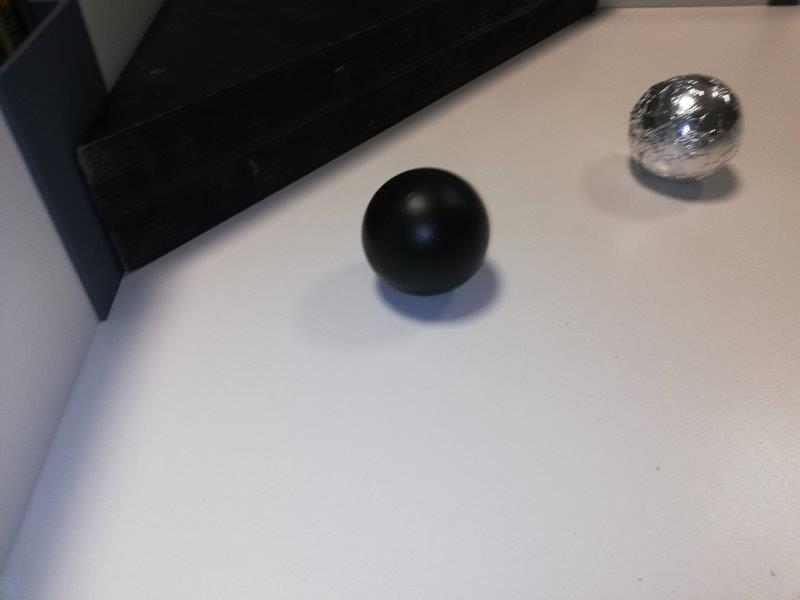bianca: (626, 71, 744, 186)
nera: (364, 168, 488, 295)
